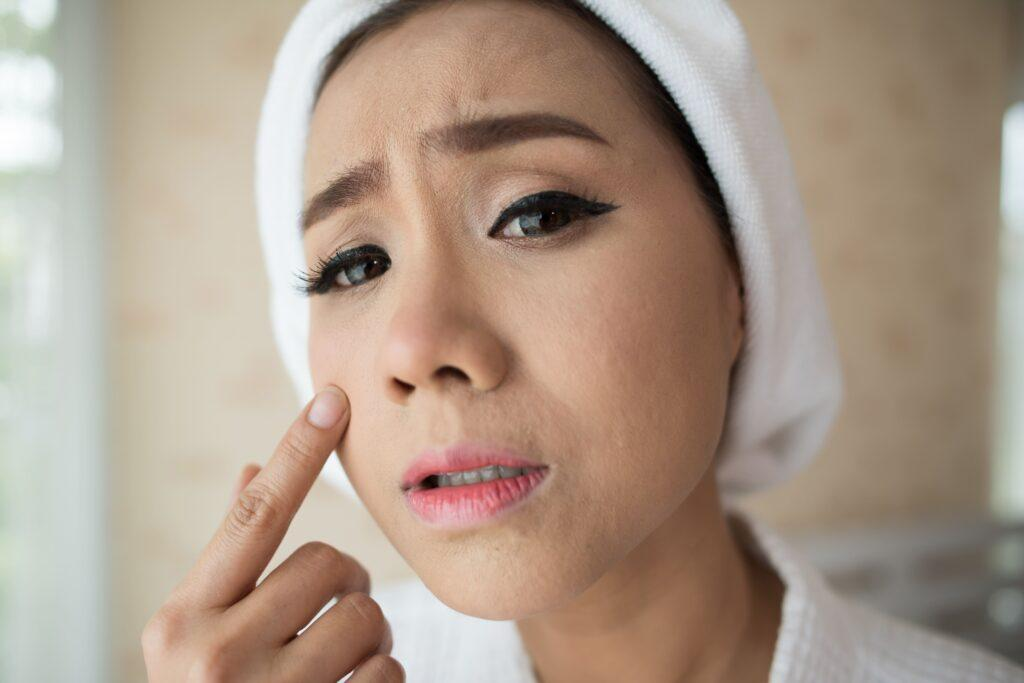Dry-Skin: (420, 19, 718, 611)
